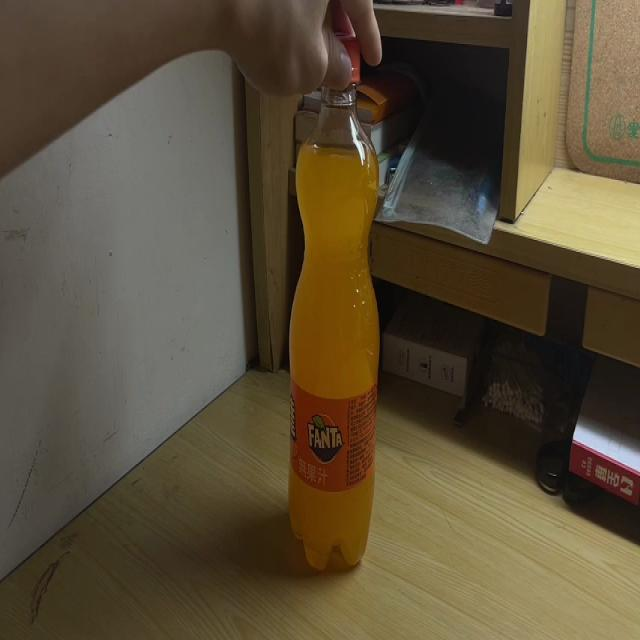Fanta: (290, 30, 381, 576)
